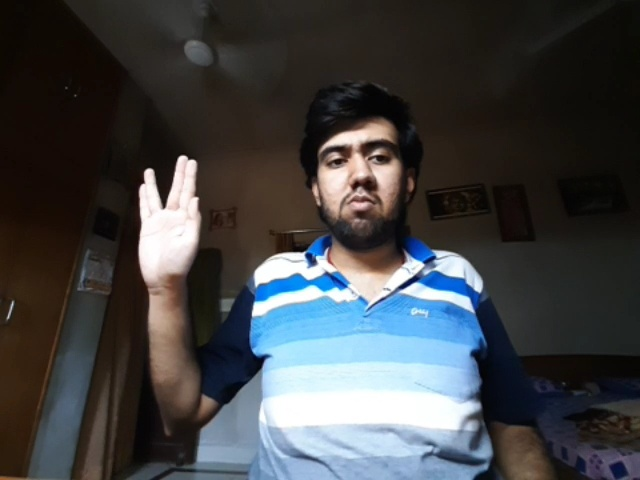LiveLong: (138, 155, 201, 284)
